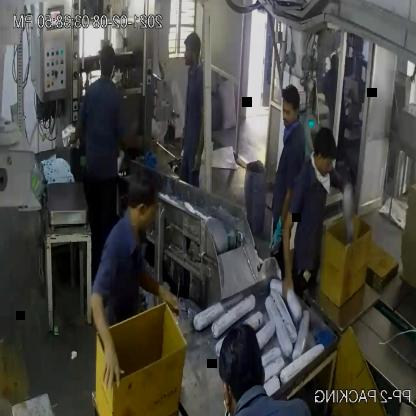no_glove: (90, 284, 127, 392), (136, 259, 181, 313), (279, 204, 302, 295)
